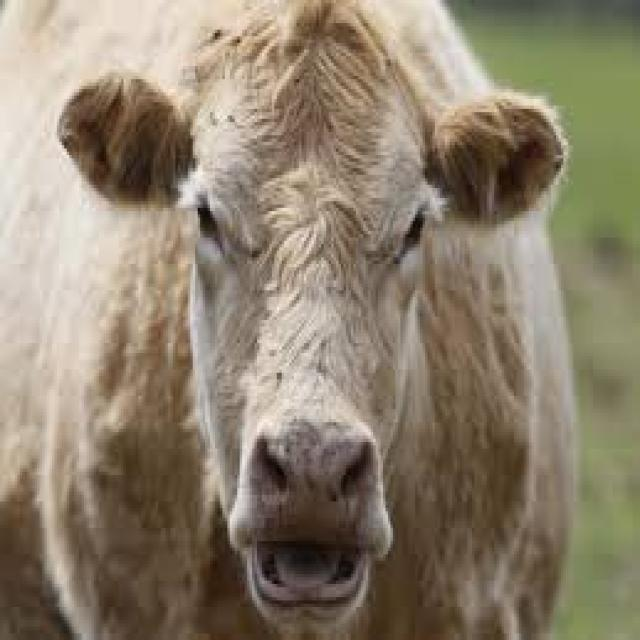cow: (147, 67, 449, 576)
